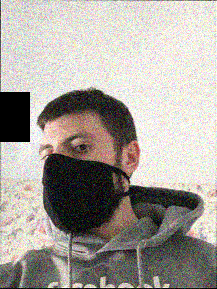with_mask: (39, 129, 119, 236)
